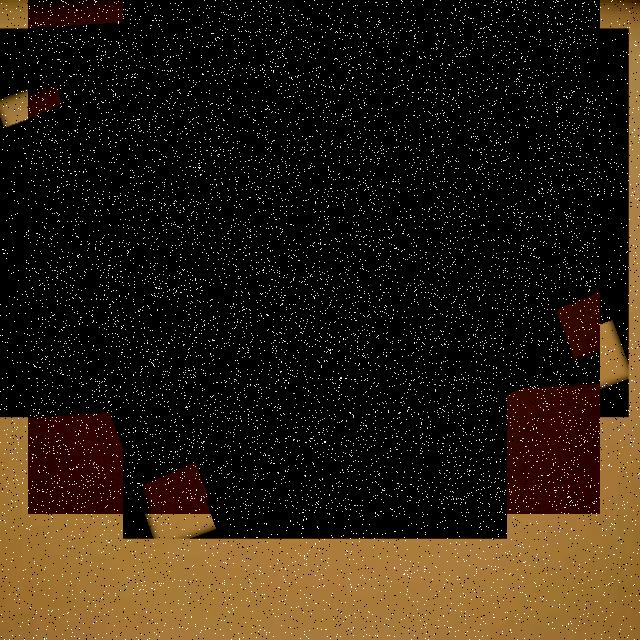dua puluh ribu rupiah: (28, 0, 600, 514)
